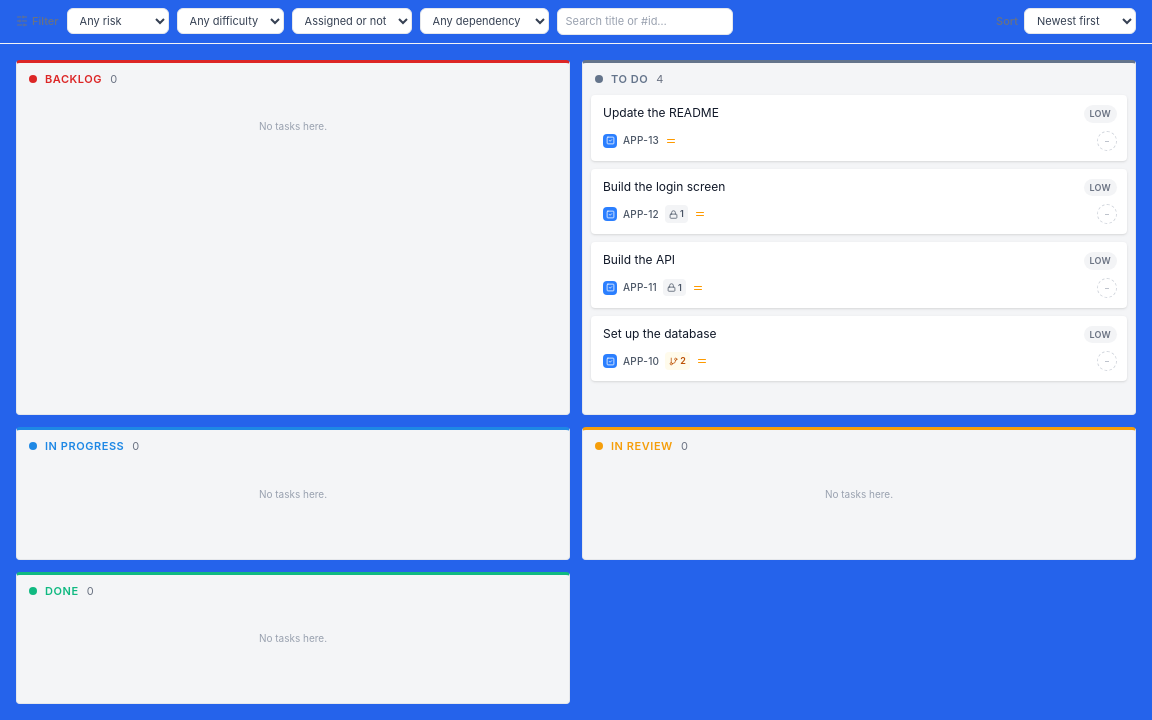
Test case: KanbanBoard dependency ordering › finds a task by what it is waiting on, so a prerequisite surfaces its followers
Expected: the text "Set up the database" is shown, [603, 326, 717, 340]
Step 1. Type "database" into the search field named "Search tasks" → (644, 21), box [556, 8, 732, 34]
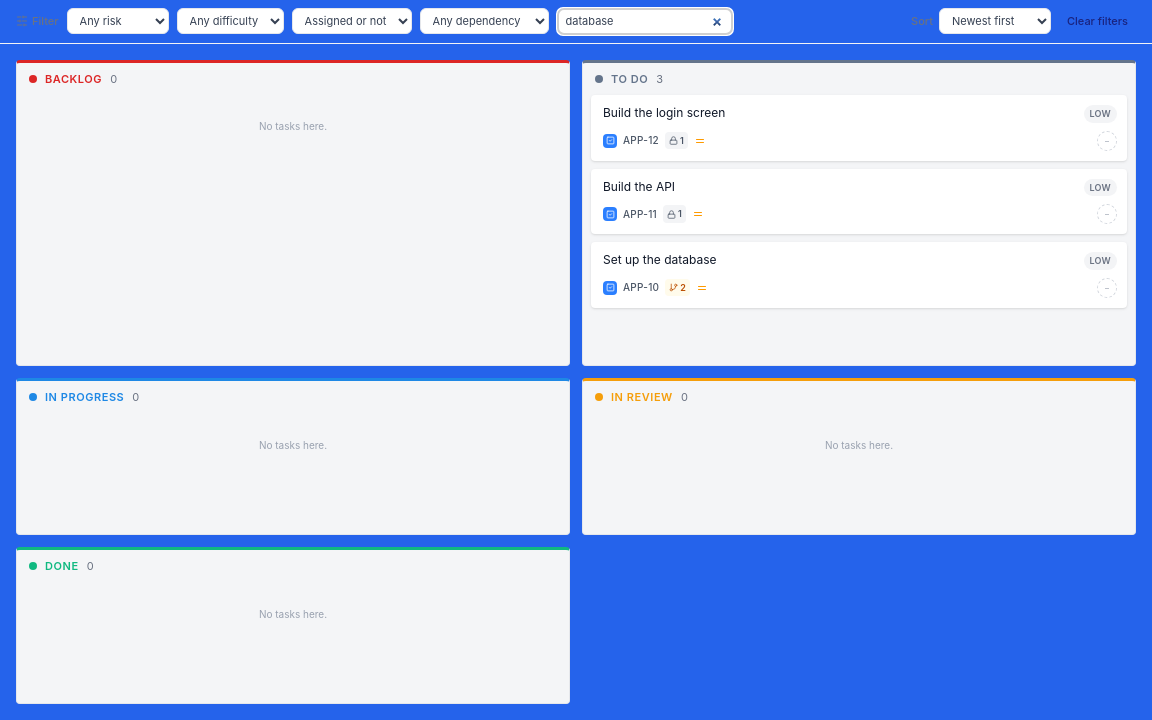
Expected: the text "Set up the database" is shown, [603, 252, 717, 267]
Now the button "Update the README" is gone
